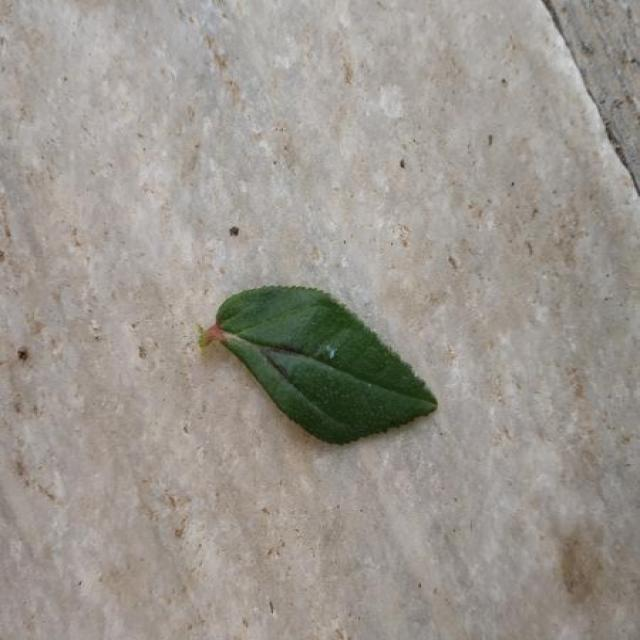Astma_weed: (200, 286, 437, 443)
